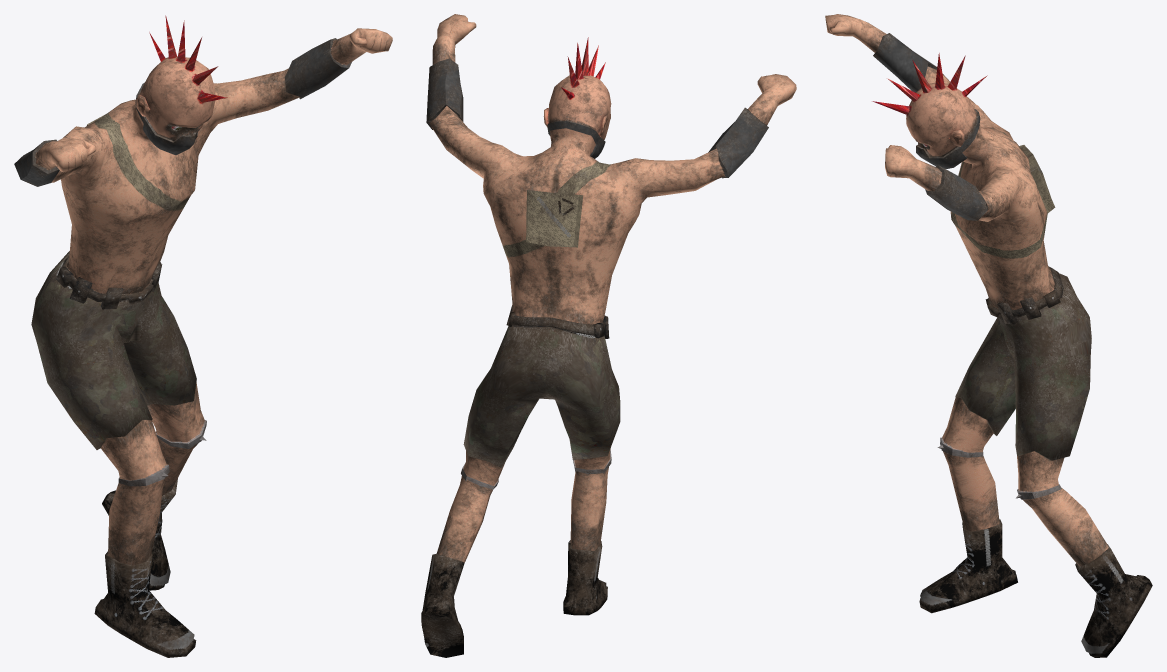
File: Anim_ganar_1_npc2.0033.obj
3 renders of one model, left to right at view 1: azimuth 30°, elevation 25°; view 2: azimuth 150°, elevation 25°; view 3: azimuth 270°, elevation 25°, orthographic. The views are drawn at different scales.
Visible parts, largest first — view 1: polySurface1; view 2: polySurface1; view 3: polySurface1.
Part boxes in pixels (x1=…): polySurface1: x1=14, y1=15, x2=392, y2=657; polySurface1: x1=421, y1=14, x2=796, y2=657; polySurface1: x1=825, y1=14, x2=1152, y2=657.
Size of the model in its own units: 5.85 by 9.91 by 5.08.
Materials: 2 (2 with a texture image).
